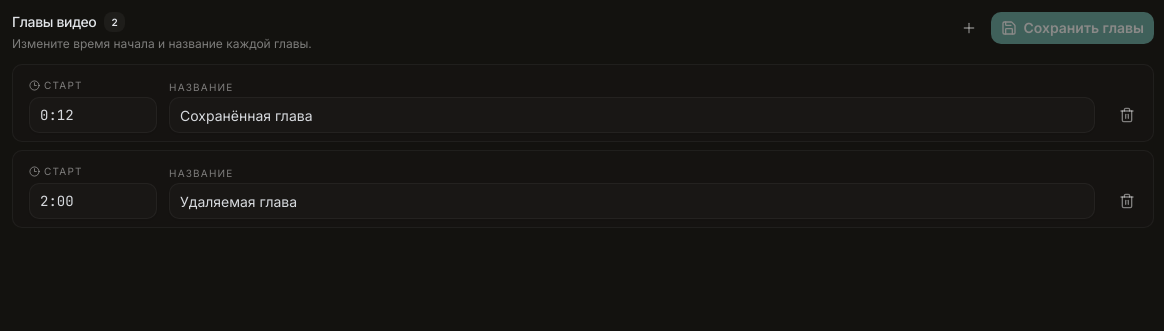
manual video chapters through the existing FileService API › hydrates stored chapters and saves title/time edits, additions and deletions for this video
Expected: the field named "Время начала главы 1" holds "0:12", [29,97,157,133]
Replace the text in the field named "Название главы 1" with "  Уточнённая глава  " at (632, 115), box [169,97,1095,133]
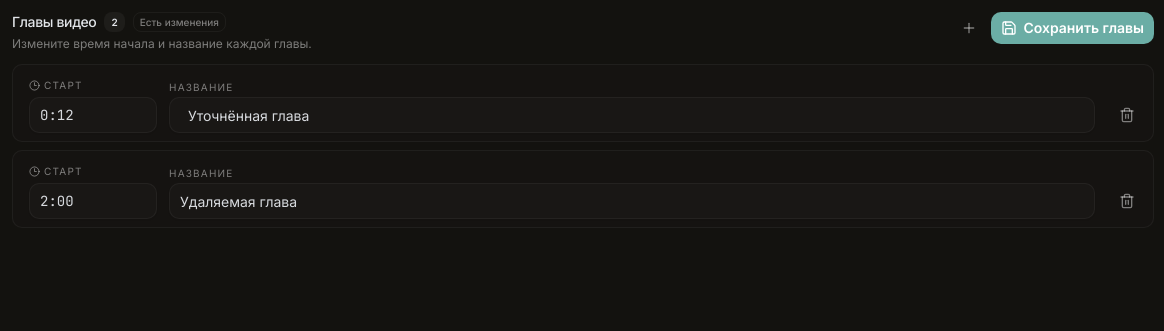
Replace the text in the field named "Время начала главы 1" with "0:30" at (93, 115), box [29,97,157,133]
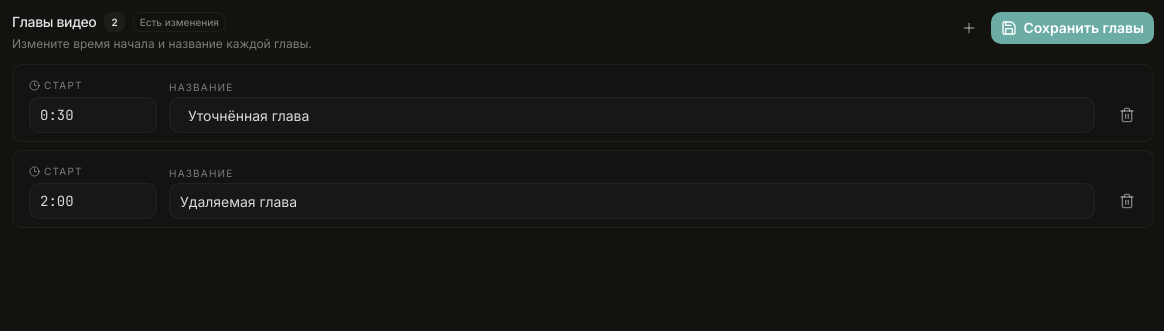
Click the button named "Добавить главу".
click(969, 28)  # box [953,12,985,44]
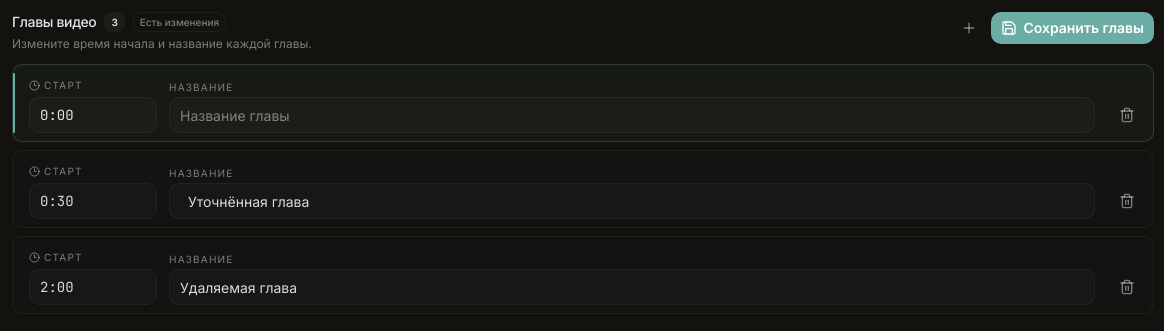
Type "Новая глава" into the field named "Название главы 1".
click(632, 115); type("Новая глава")  # box [169,97,1095,133]
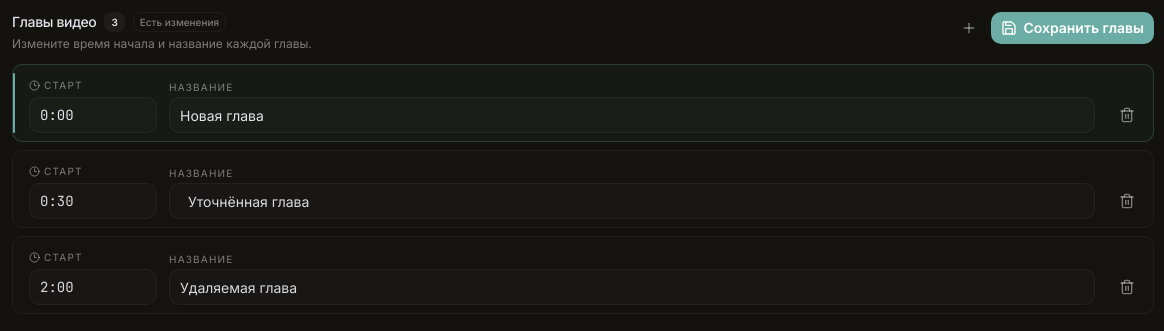
Click the button named "Удалить главу 3".
click(1127, 287)  # box [1111,271,1143,303]
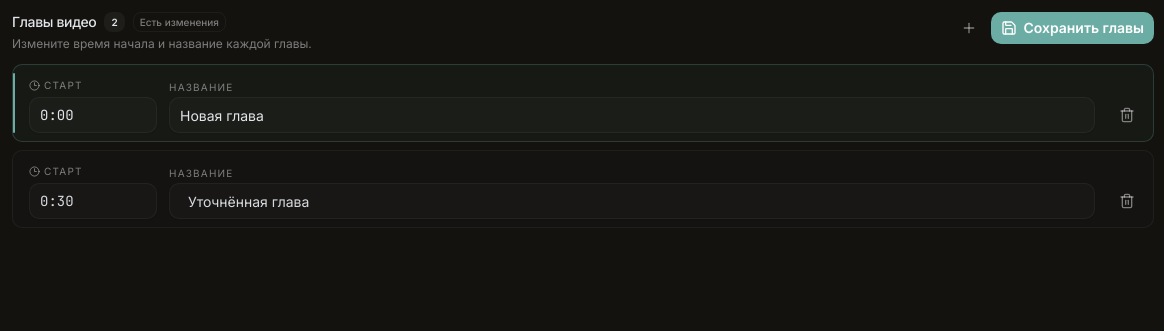
Click the button "Сохранить главы".
click(1073, 28)  # box [991,12,1154,44]
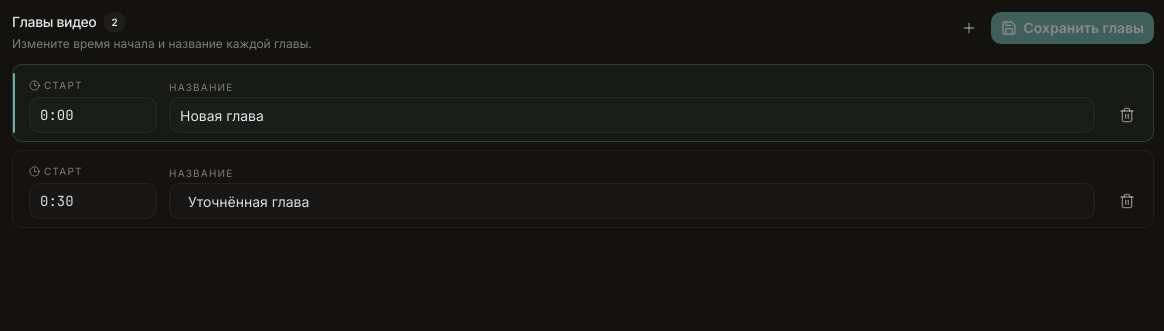
Result: the button "Сохранить главы" is disabled at [991,12,1154,44]
